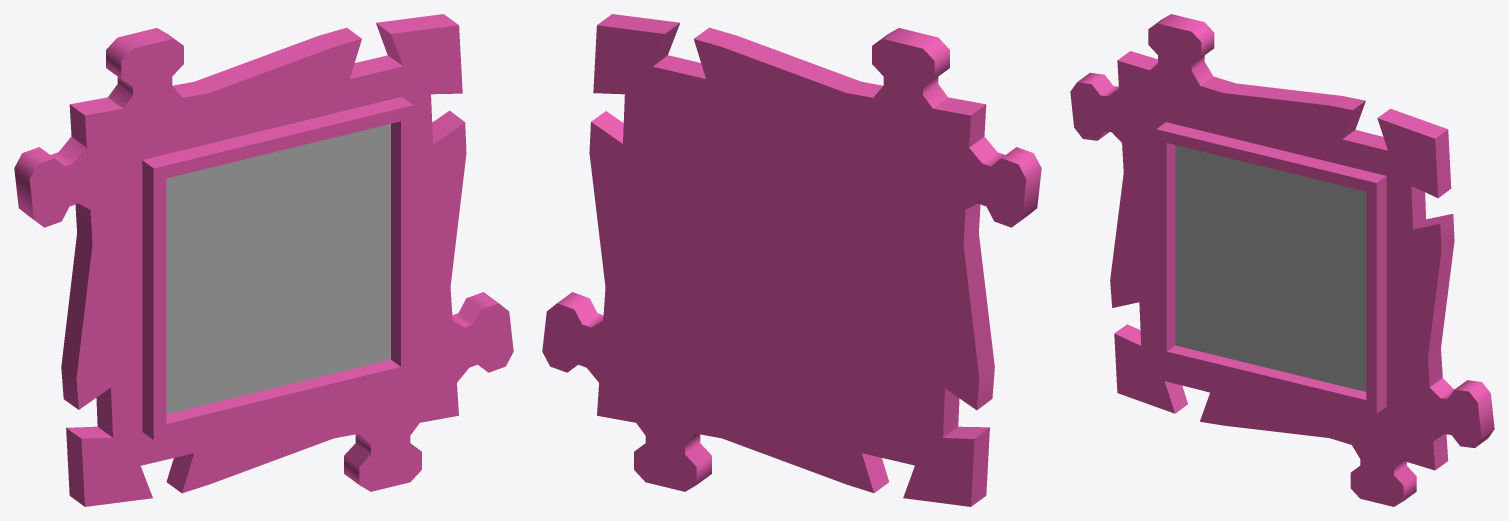
The model's file is cadre_puzzle.fbx.
3 renders of one model, left to right at view 1: azimuth 30°, elevation 25°; view 2: azimuth 150°, elevation 25°; view 3: azimuth 330°, elevation 25°, orthographic. The views are drawn at different scales.
Visible parts, largest first — view 1: polymsh; view 2: polymsh; view 3: polymsh.
Part boxes in pixels (box(x1,y1,x2,y2)): polymsh: box(14, 14, 513, 506); polymsh: box(542, 14, 1041, 506); polymsh: box(1070, 14, 1494, 506).
Size of the model in its own units: 10.35 by 10.25 by 0.996.
